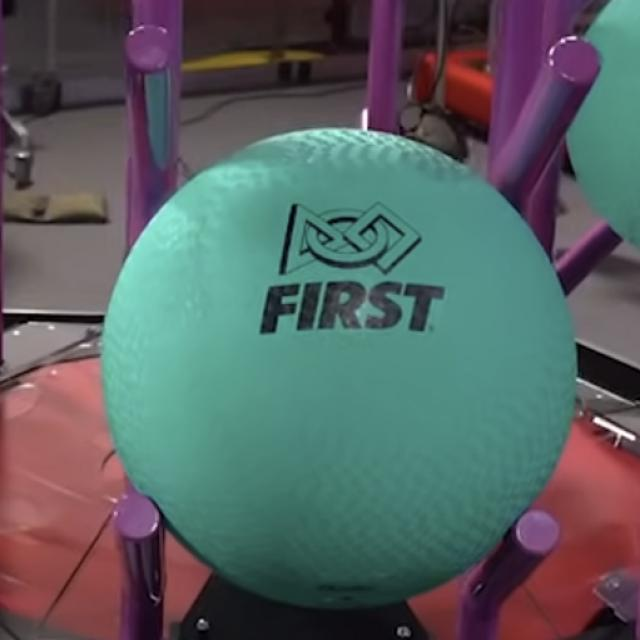Algae: (101, 128, 575, 610), (566, 2, 640, 250)
Reef: (489, 36, 602, 214), (467, 510, 561, 620), (128, 26, 175, 228), (114, 494, 164, 614), (550, 222, 623, 298)
